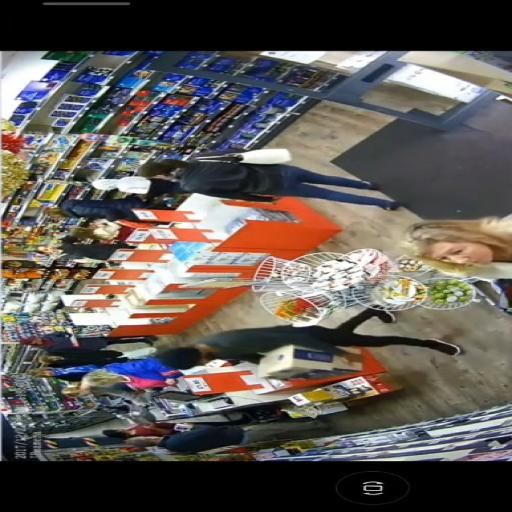workers: (45, 348, 200, 392), (42, 333, 160, 369), (57, 221, 147, 262), (52, 191, 155, 224)
